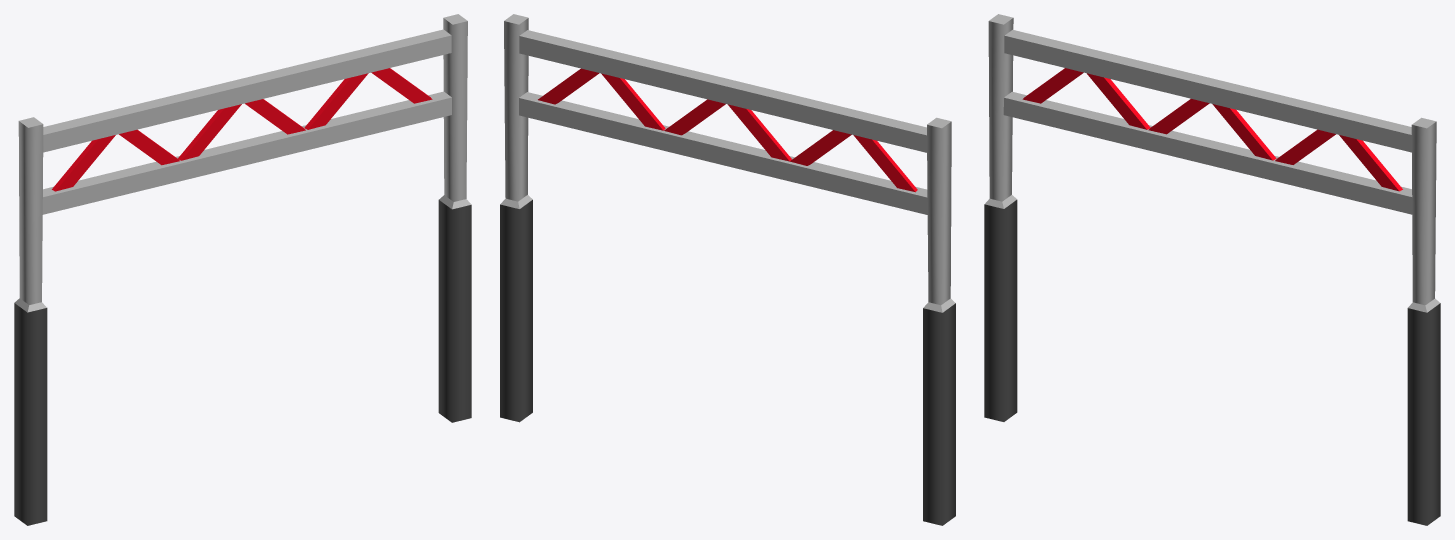
Rendered from SM_Road_part25.fbx.
3 renders of one model, left to right at view 1: azimuth 30°, elevation 25°; view 2: azimuth 150°, elevation 25°; view 3: azimuth 330°, elevation 25°, orthographic.
Visible parts, largest first — view 1: SM_Road_part25; view 2: SM_Road_part25; view 3: SM_Road_part25.
Boxes of the visible parts, left/top/right/bottom form: SM_Road_part25: left=14, top=14, right=471, bottom=525; SM_Road_part25: left=500, top=14, right=955, bottom=525; SM_Road_part25: left=984, top=14, right=1440, bottom=525.
Bounding box in the file's own units: 1475 × 1259 × 79.46.
